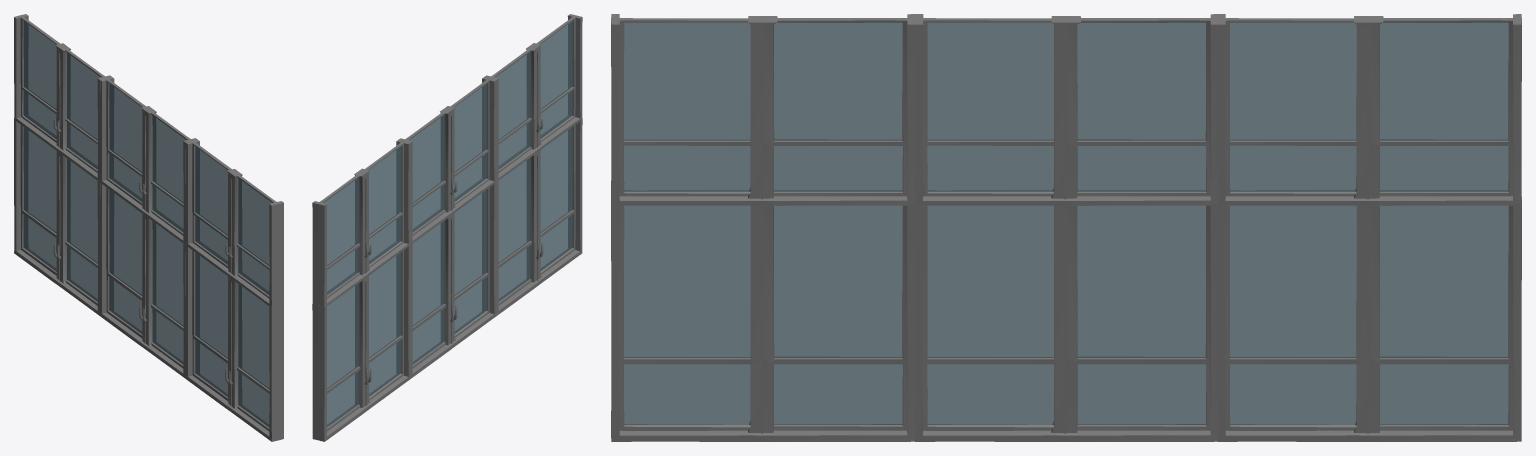
The model's file is WindowSchool.fbx.
The picture shows the model from 3 angles, left to right: view 1: azimuth 30°, elevation 25°; view 2: azimuth 150°, elevation 25°; view 3: azimuth 270°, elevation 25°; orthographic projection. The views are drawn at different scales.
Parts seen in each view (by area): view 1: WindowSchool; view 2: WindowSchool; view 3: WindowSchool.
Part boxes in pixels (<box>): WindowSchool: <box>14,14,283,441</box>; WindowSchool: <box>312,14,582,441</box>; WindowSchool: <box>611,14,1521,441</box>.
Bounding box in the file's own units: 16.06 × 256 × 507.
